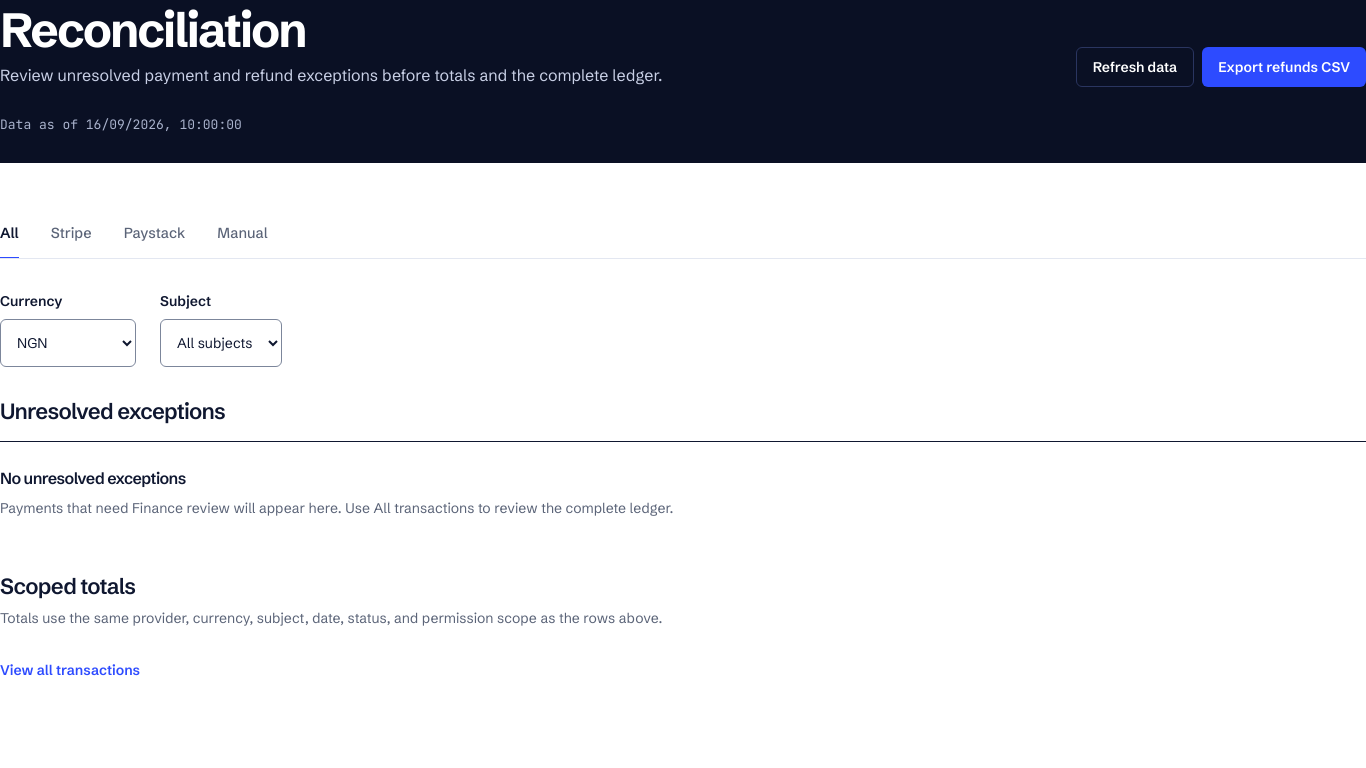
Test: ReconciliationWorkspace › queues All refunds with the current provider, currency, dates and refund status
Click the button "Export refunds CSV".
click(1284, 67)  # box x1=1202 y1=47 x2=1365 y2=87
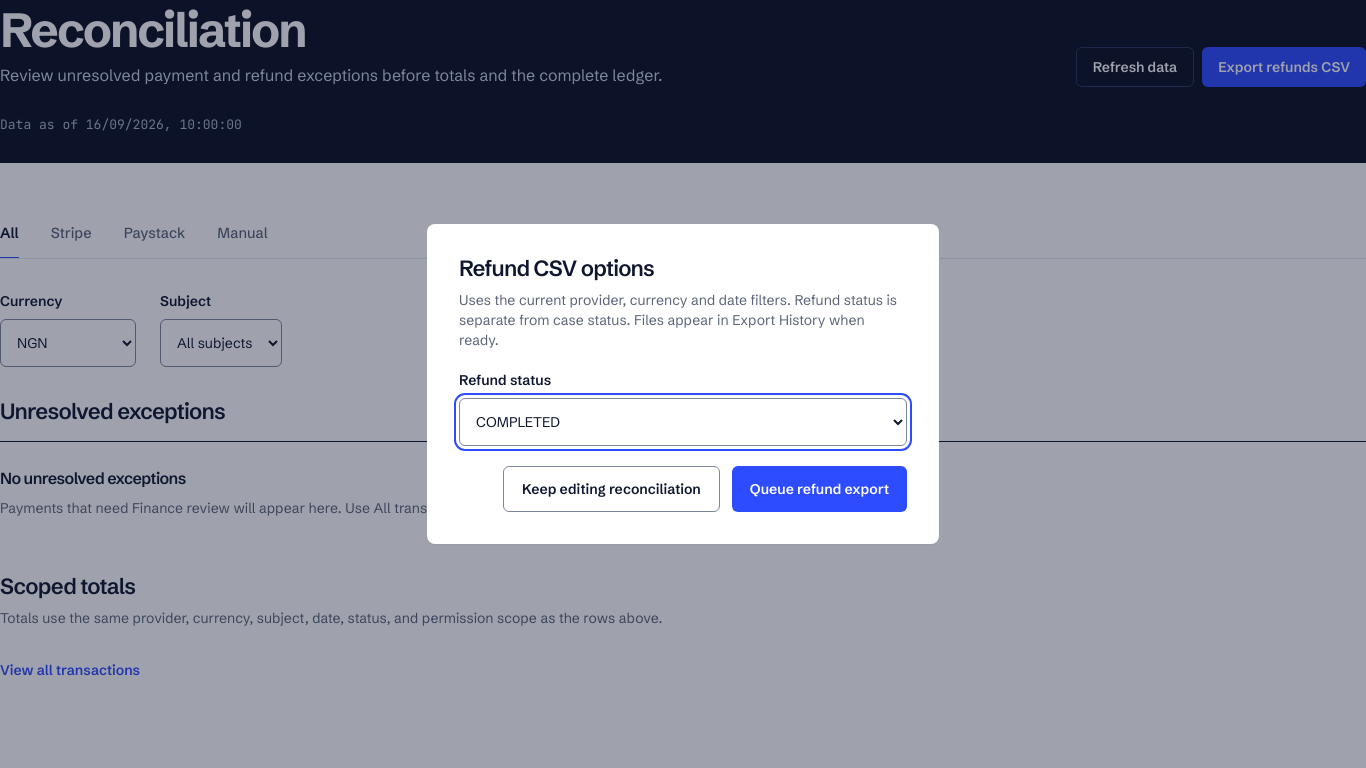
Click the button "Queue refund export".
click(819, 489)  # box x1=732 y1=466 x2=907 y2=512
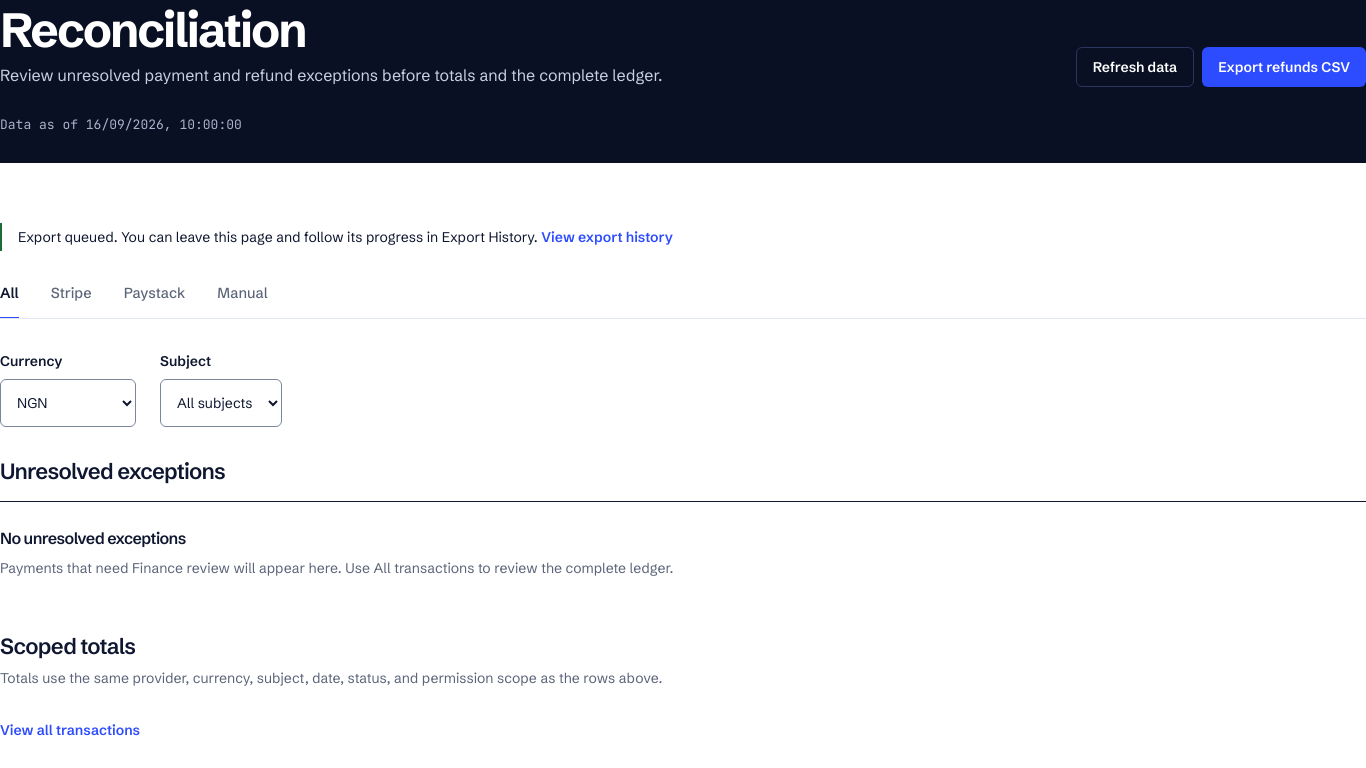
Expected: the message is shown, x1=0 y1=223 x2=1365 y2=251
